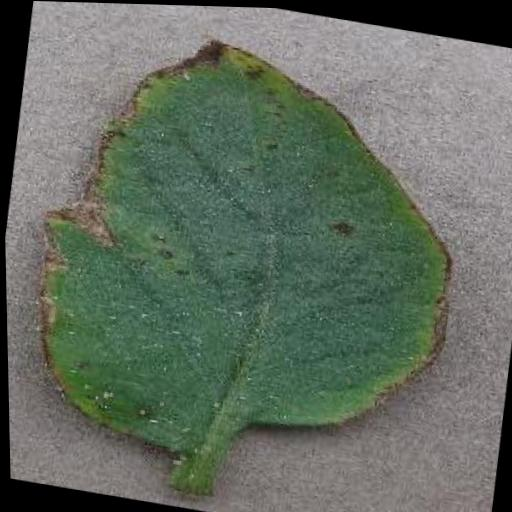Bacterial Spot: (9, 1, 486, 503)
